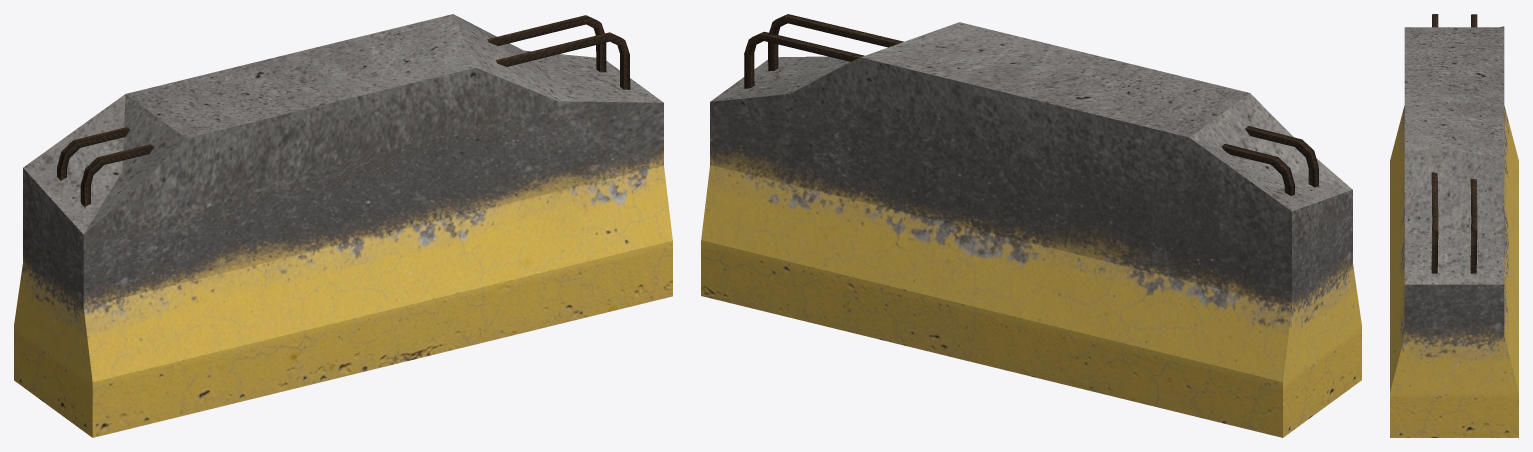
File: bar2.obj
3 views of the same model, side by side, from view 1: azimuth 30°, elevation 25°; view 2: azimuth 150°, elevation 25°; view 3: azimuth 270°, elevation 25° (orthographic). The views are drawn at different scales.
Visible parts, largest first — view 1: road barrier 2; view 2: road barrier 2; view 3: road barrier 2.
Boxes of the visible parts, x1,y1,x2,y2 form: road barrier 2: (14, 14, 672, 437); road barrier 2: (701, 14, 1361, 437); road barrier 2: (1390, 14, 1518, 437).
Bounding box in the file's own units: 2.03 × 0.8948 × 0.4754.
Materials: 1 (1 with a texture image).
